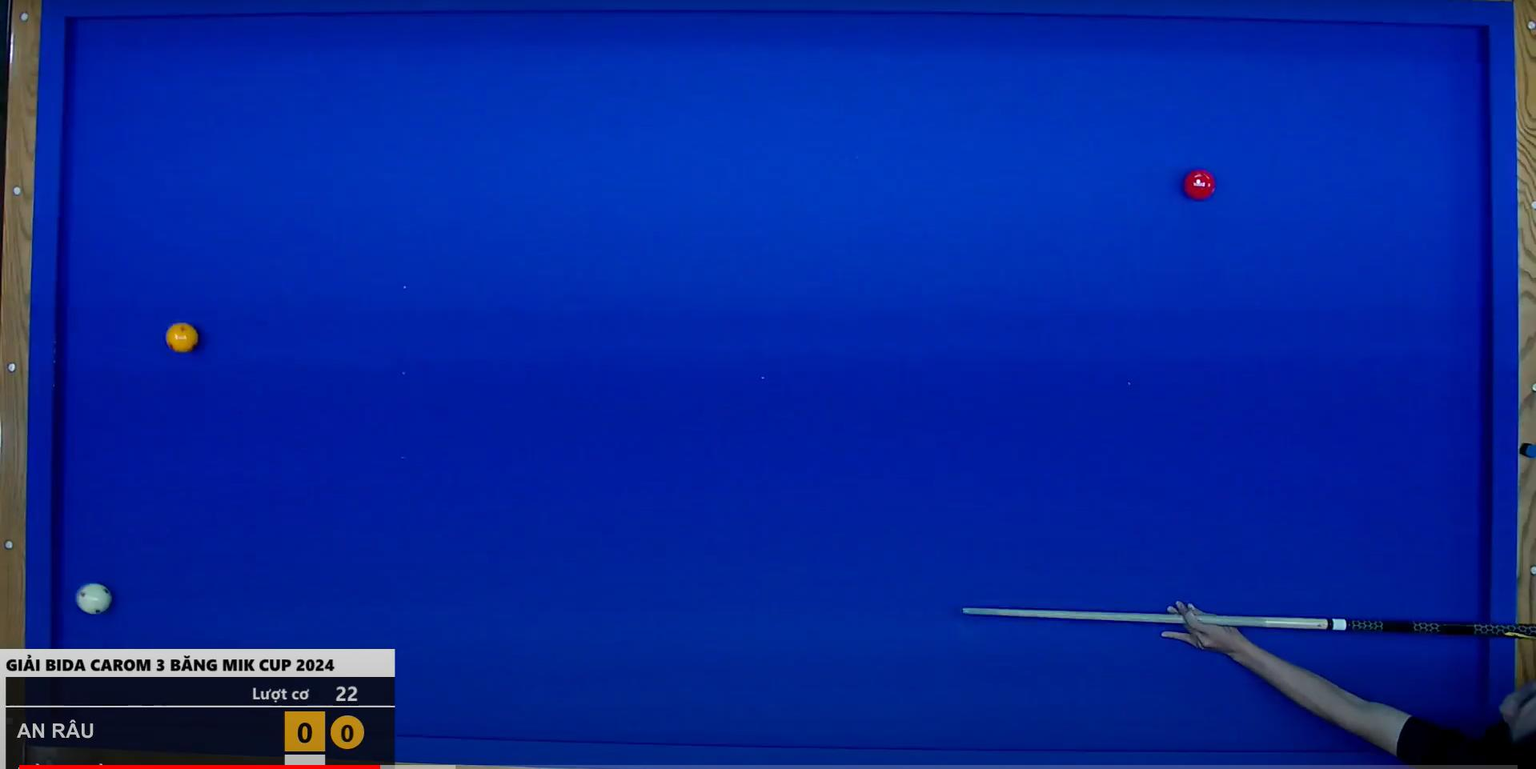red ball: (1180, 162, 1220, 212)
white ball: (70, 574, 118, 621)
yellow ball: (161, 314, 207, 363)
